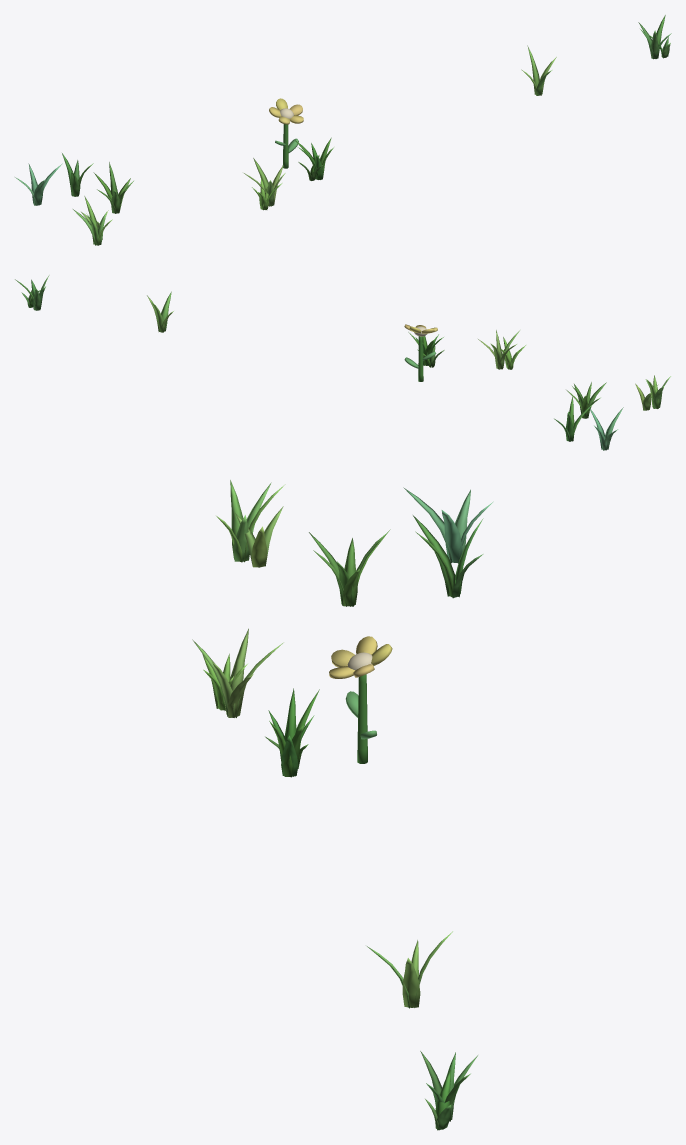
Rendered from W3_FloraRing_9_11.fbx.
3 renders of one model, top to bottom at view 1: azimuth 30°, elevation 25°; view 2: azimuth 150°, elevation 25°; view 3: azimuth 270°, elevation 25°, orthographic. The views are drawn at different scales.
Visible parts, largest first — view 1: W3_FloraRing_9_11; view 2: W3_FloraRing_9_11; view 3: W3_FloraRing_9_11.
Part boxes in pixels (x1=…): W3_FloraRing_9_11: x1=15, y1=15, x2=671, y2=245; W3_FloraRing_9_11: x1=15, y1=275, x2=670, y2=450; W3_FloraRing_9_11: x1=192, y1=480, x2=493, y2=1130.
Size of the model in its own units: 2.15 by 0.2062 by 0.4651.
